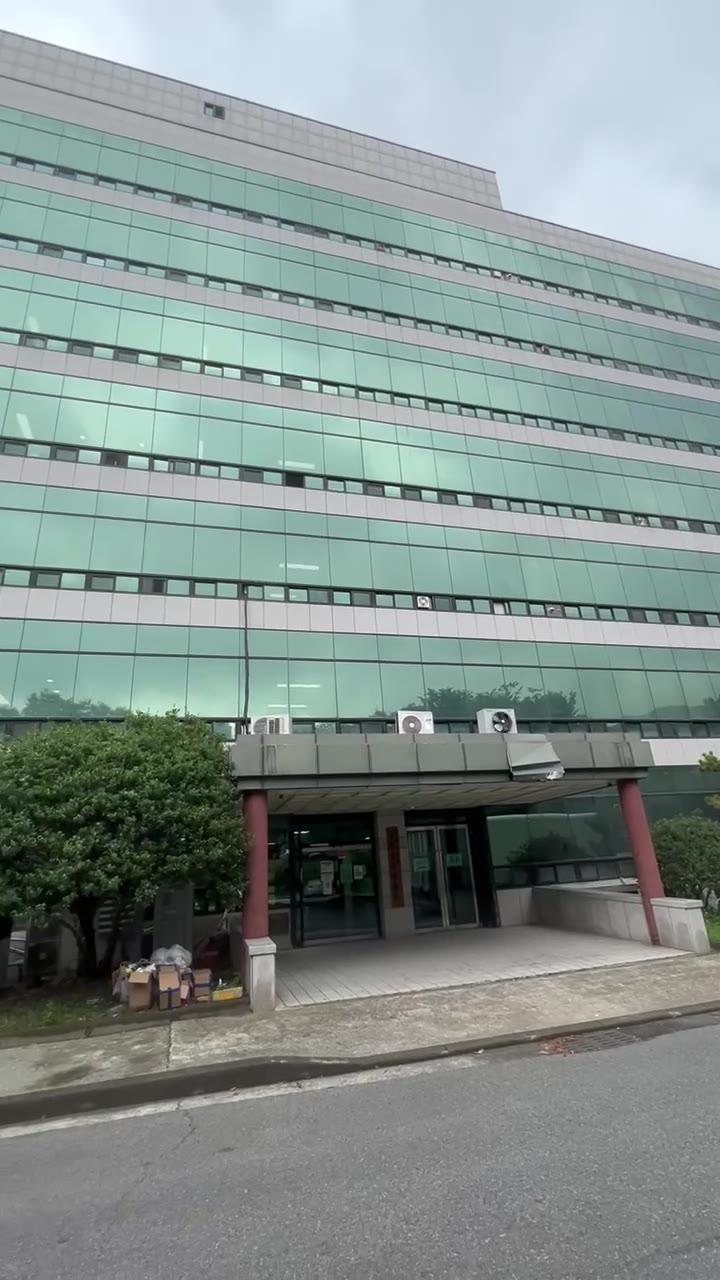building: (40, 78, 586, 722)
